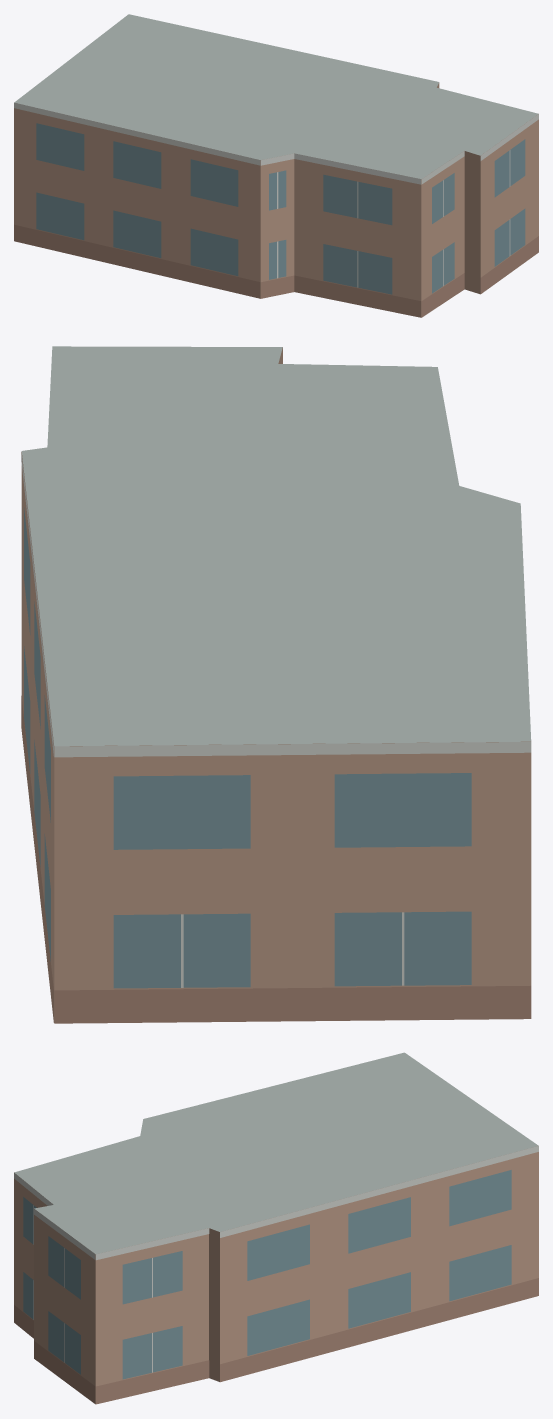
File: survey-upis-32477417.glb
3 renders of one model, top to bottom at view 1: azimuth 30°, elevation 25°; view 2: azimuth 150°, elevation 25°; view 3: azimuth 270°, elevation 25°, orthographic. The views are drawn at different scales.
Visible parts, largest first — view 1: survey-upis-32477417.tmp; view 2: survey-upis-32477417.tmp; view 3: survey-upis-32477417.tmp.
Boxes of the visible parts, <box> form: survey-upis-32477417.tmp: <box>14,14,538,317</box>; survey-upis-32477417.tmp: <box>21,346,531,1023</box>; survey-upis-32477417.tmp: <box>14,1052,538,1404</box>.
Bounding box in the file's own units: 17.61 × 6.1 × 19.34.
